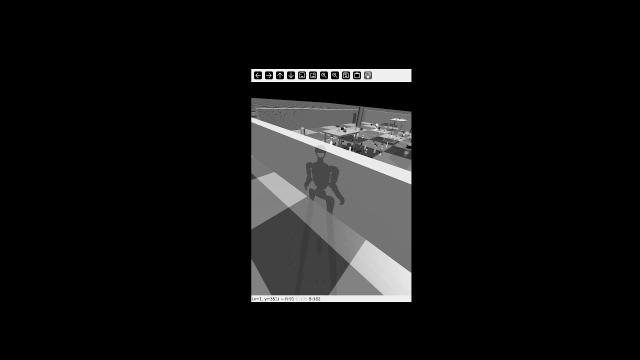cilindro: (355, 105, 363, 127), (300, 127, 306, 137), (330, 138, 334, 144), (400, 123, 403, 129), (386, 141, 389, 146), (363, 144, 366, 149), (338, 128, 341, 132), (381, 142, 384, 146), (379, 151, 383, 154), (355, 139, 358, 143), (403, 130, 406, 133), (391, 132, 394, 135), (351, 135, 354, 138), (409, 137, 412, 140), (360, 141, 362, 145), (379, 127, 381, 131), (410, 127, 411, 132), (399, 118, 401, 119)
cuadrado: (346, 143, 352, 147), (408, 142, 413, 146), (350, 139, 354, 142), (373, 149, 377, 152), (370, 123, 373, 126), (360, 128, 363, 131), (398, 132, 401, 135), (368, 156, 375, 157), (411, 140, 413, 143), (401, 119, 403, 120)
esfera: (375, 123, 379, 127), (333, 141, 336, 145), (343, 129, 346, 132), (384, 129, 387, 132), (402, 134, 406, 136), (342, 139, 344, 143), (375, 144, 378, 146), (373, 140, 375, 142), (365, 149, 367, 151), (396, 135, 398, 137), (374, 127, 376, 129), (380, 148, 383, 149), (362, 135, 364, 136), (396, 118, 397, 120)
rectangulo: (356, 149, 361, 154), (407, 145, 412, 149), (400, 129, 405, 132)
